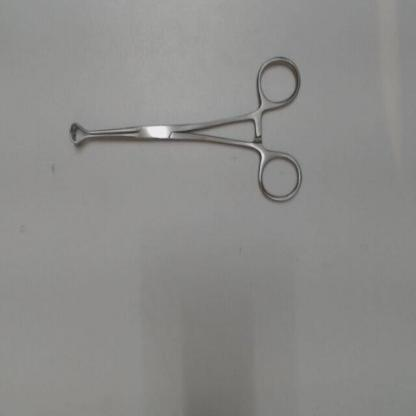Babcock Tissue Forceps: (61, 52, 304, 207)
